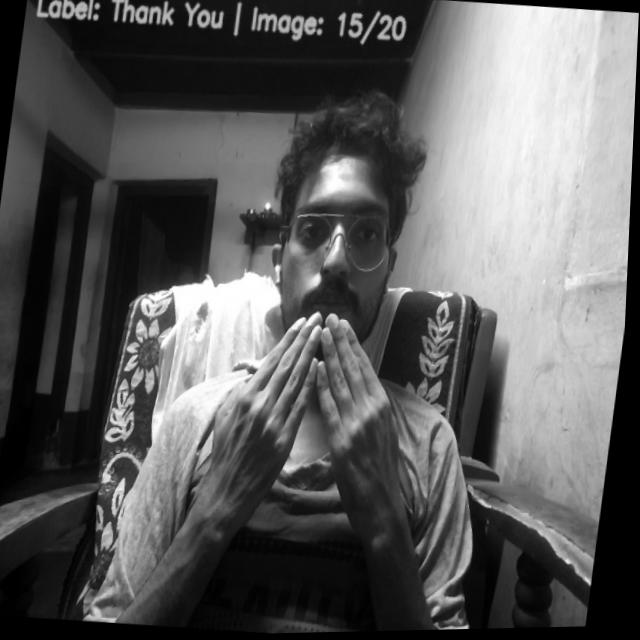Thank You: (205, 300, 430, 525)
